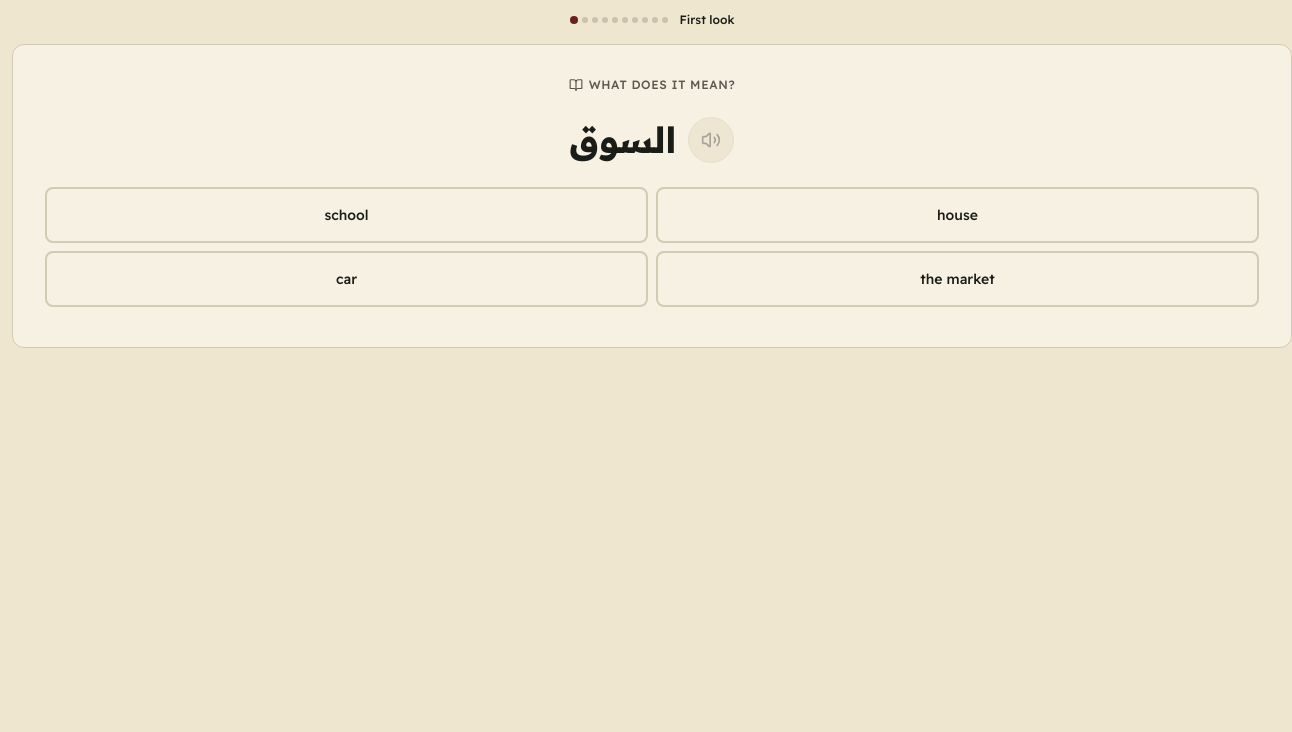
Test: why not this one? › names neither word when two of the others share the meaning picked
Click the radio button labelled "house". click: (958, 215)
box: top-left (656, 187), bottom-right (1259, 243)
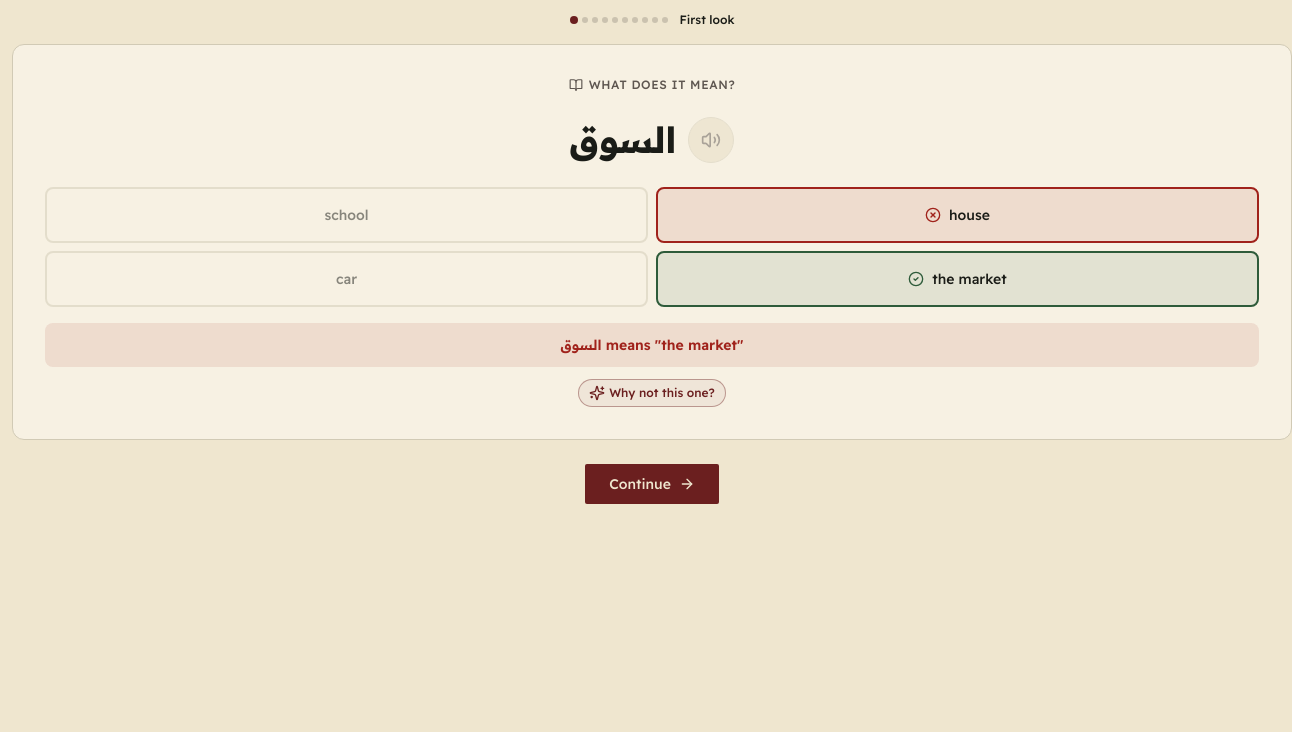
Click the button "Why not this one?". click: (652, 393)
box: top-left (578, 379), bottom-right (726, 407)
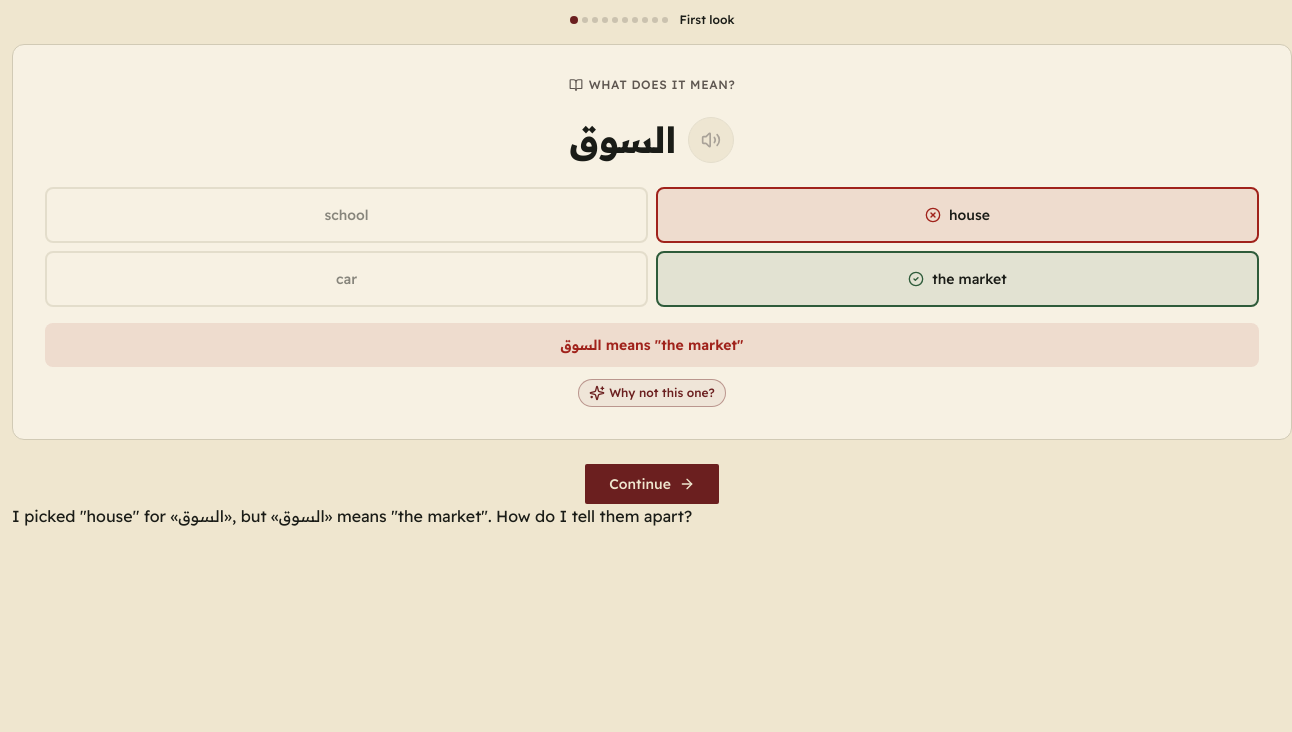
Expected: the text with test id "asked" does not show "that's", top-left (12, 506), bottom-right (692, 526)
Result: the text with test id "asked" shows "I picked \"house\" for «السوق»" at top-left (12, 506), bottom-right (692, 526)
